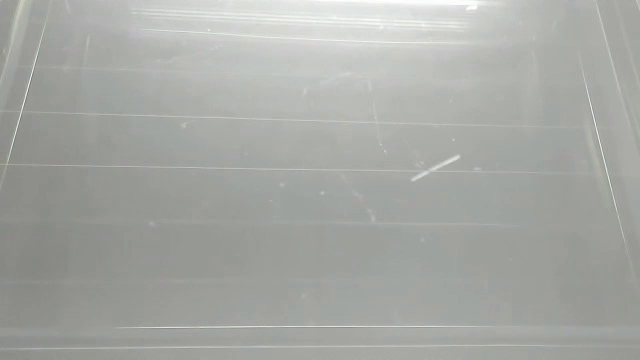alpha: (408, 153, 466, 186), (462, 1, 482, 17)
